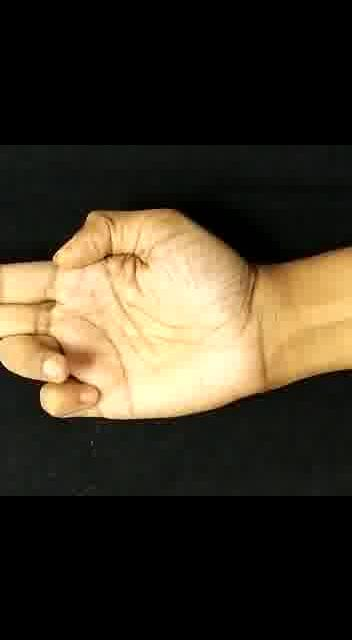ardhpataka: (0, 190, 288, 437)
